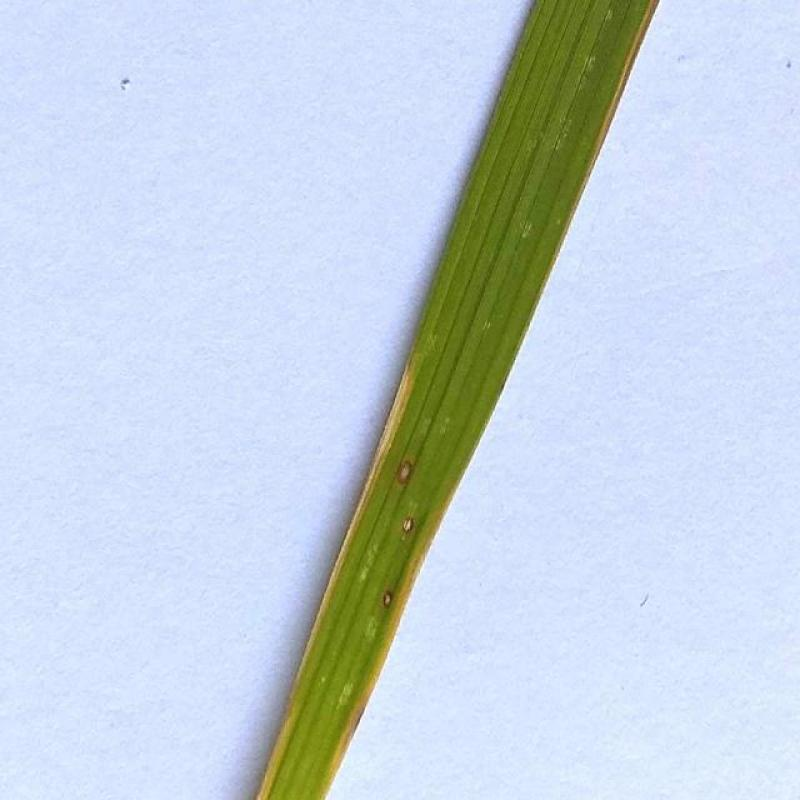Leaf_Blast: (386, 449, 428, 499), (370, 578, 409, 624), (388, 508, 427, 550)
